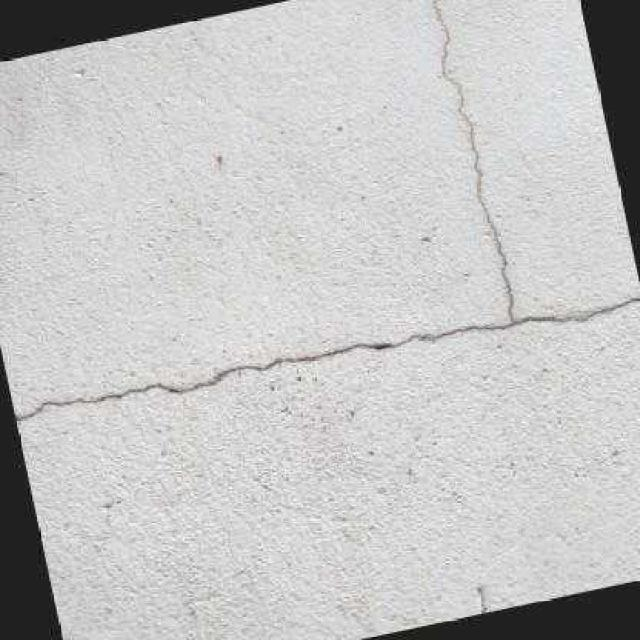D00: (12, 0, 640, 422)
